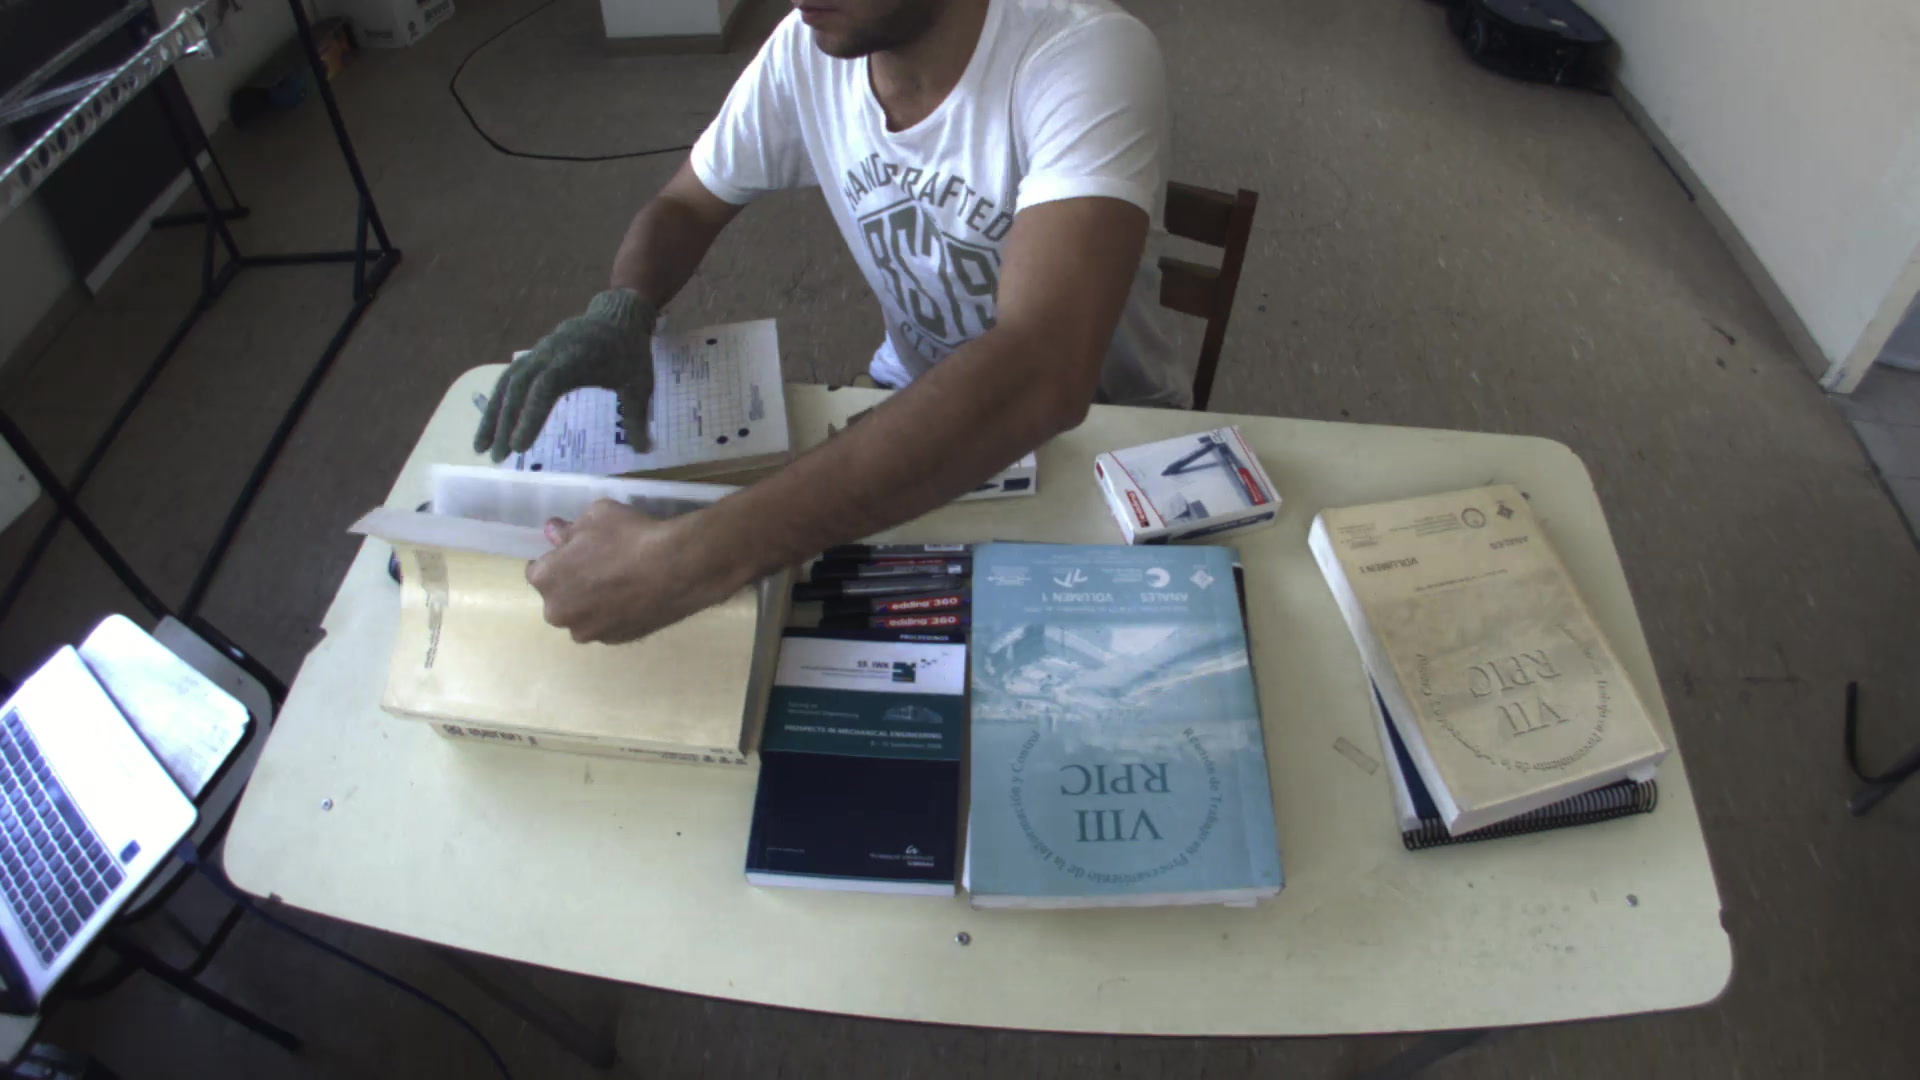hand: (455, 273, 663, 463), (527, 498, 675, 647)
